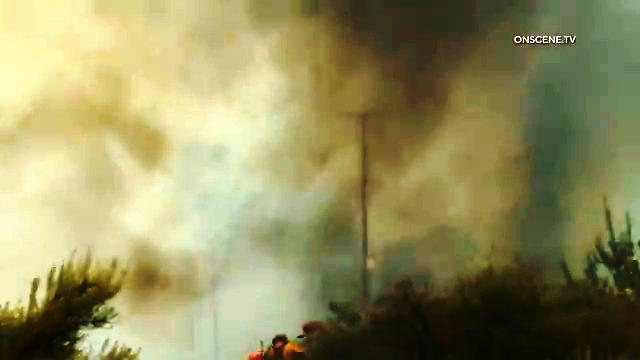smoke: (32, 6, 368, 183)
